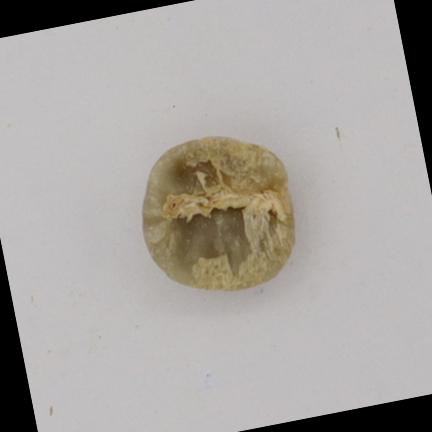immature: (143, 137, 294, 290)
